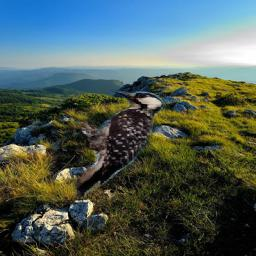Woodpecker: (71, 88, 174, 200)
